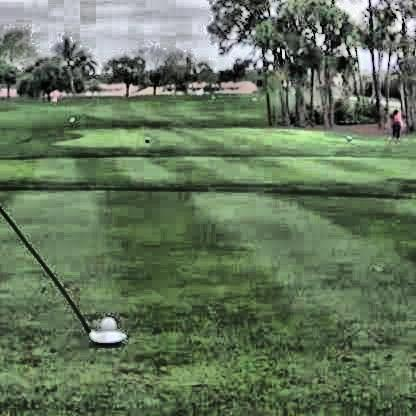golfball: (98, 313, 113, 329)
